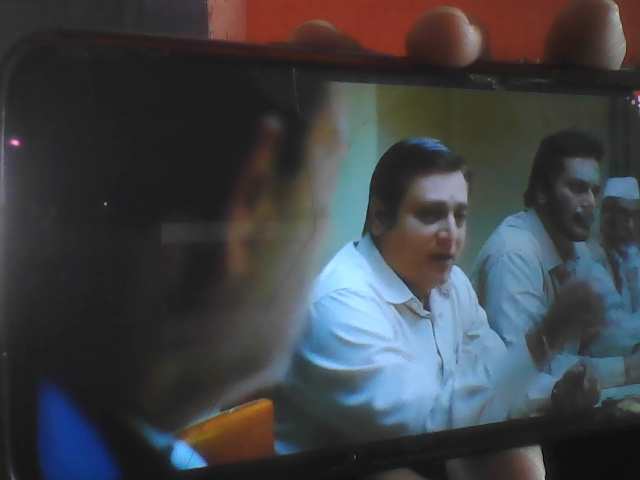fake: (373, 133, 485, 292)
